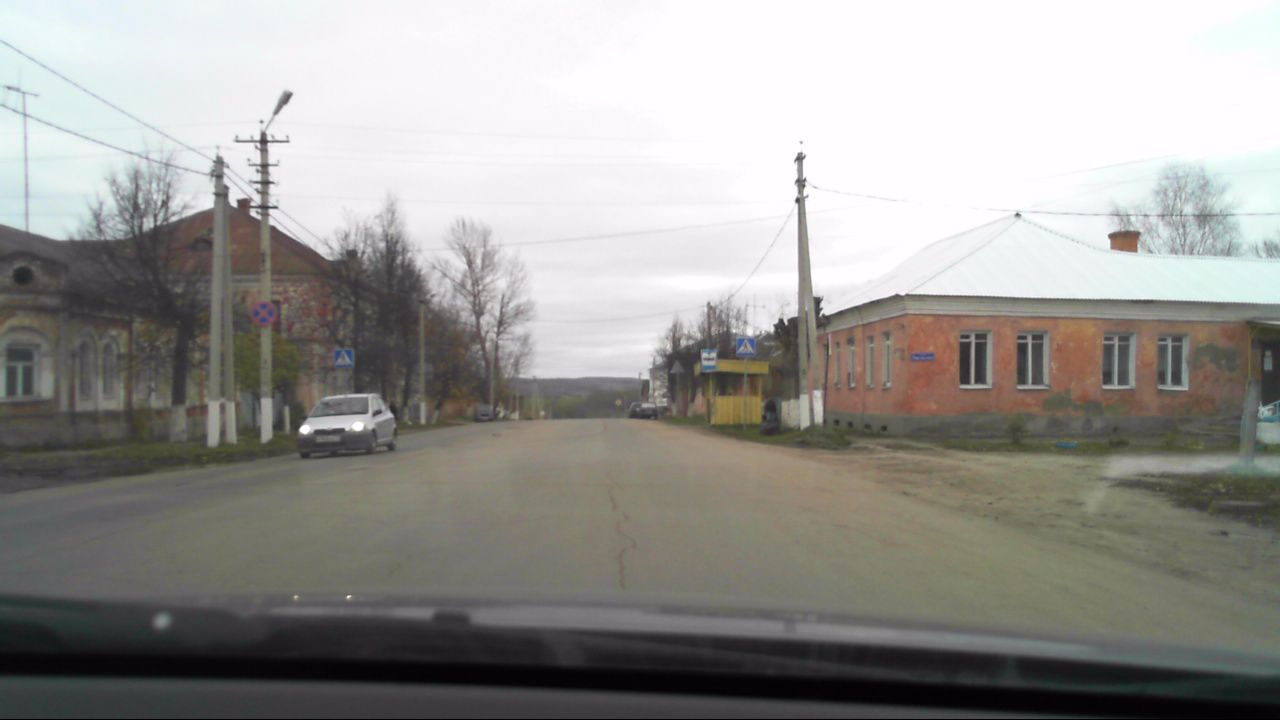No Parking: (254, 299, 279, 327)
